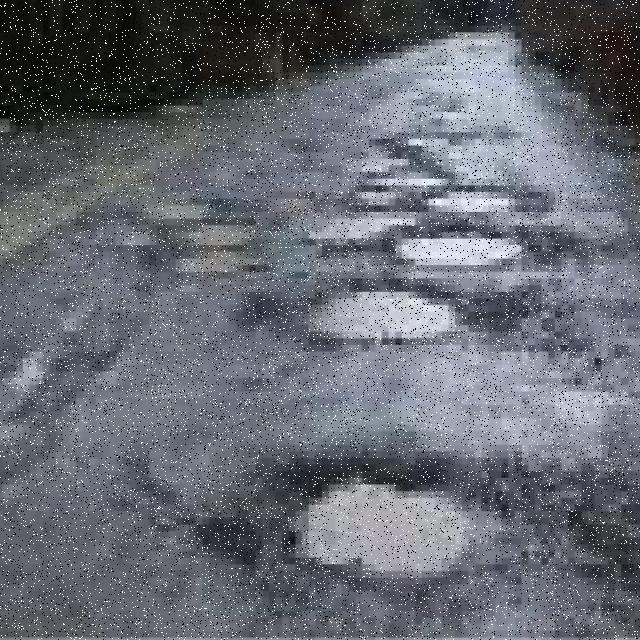pothole: (302, 458, 508, 571), (355, 145, 522, 272), (309, 292, 455, 338), (162, 219, 216, 258)
